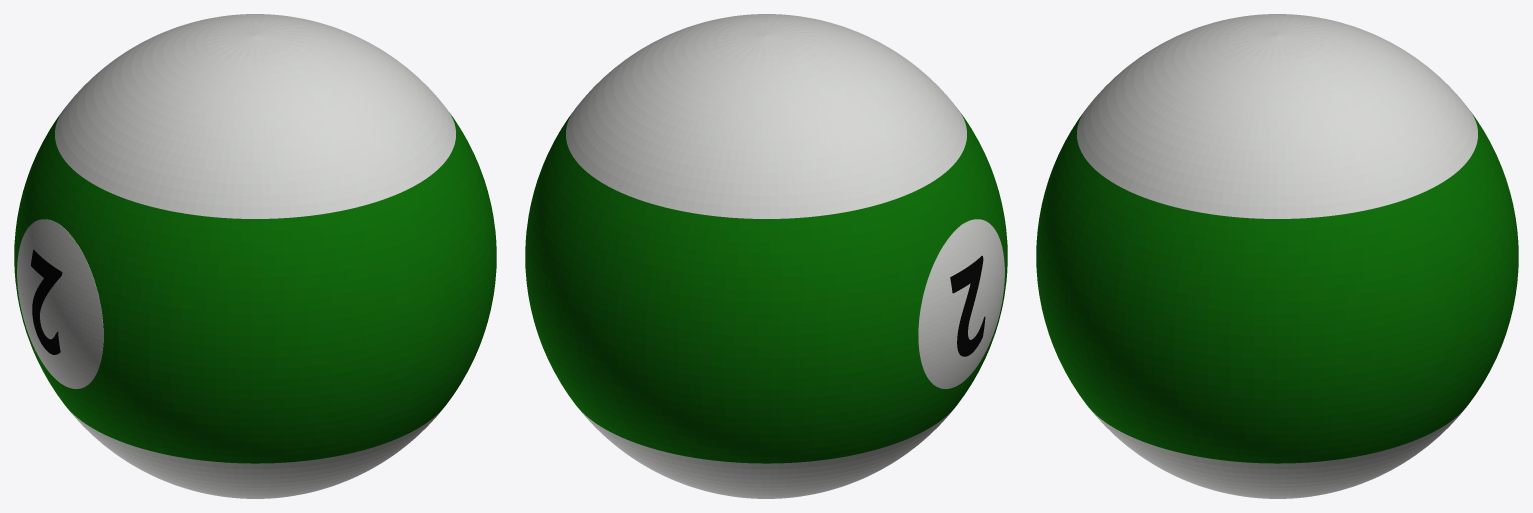
The model's file is Ball#2.fbx.
3 views of the same model, side by side, from view 1: azimuth 30°, elevation 25°; view 2: azimuth 150°, elevation 25°; view 3: azimuth 270°, elevation 25° (orthographic).
Parts seen in each view (by area): view 1: Sphere, Sphere.001, Text; view 2: Sphere, Sphere.001, Text; view 3: Sphere.
Boxes of the visible parts, x1,y1,x2,y2 form: Sphere: (14, 14, 496, 498); Sphere.001: (17, 219, 103, 388); Text: (31, 249, 62, 354); Sphere: (525, 14, 1007, 498); Sphere.001: (918, 219, 1004, 388); Text: (950, 256, 985, 356); Sphere: (1036, 14, 1518, 498).
Size of the model in its own units: 198 by 200 by 198.
